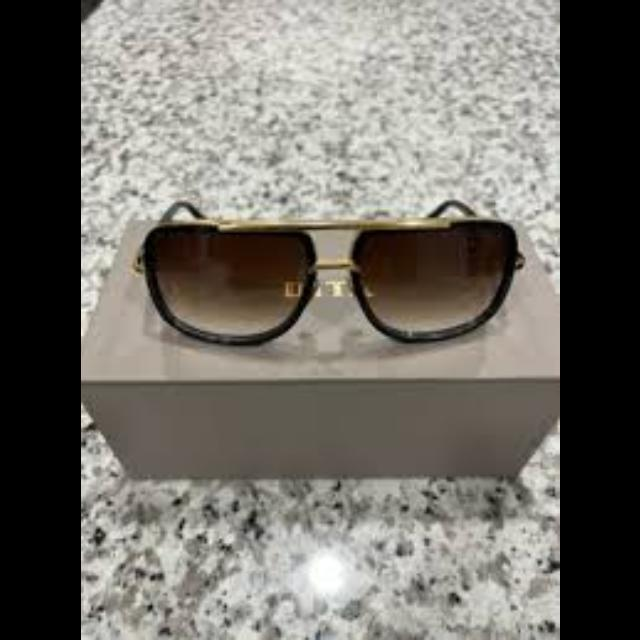sunglasses: (134, 198, 526, 346)
